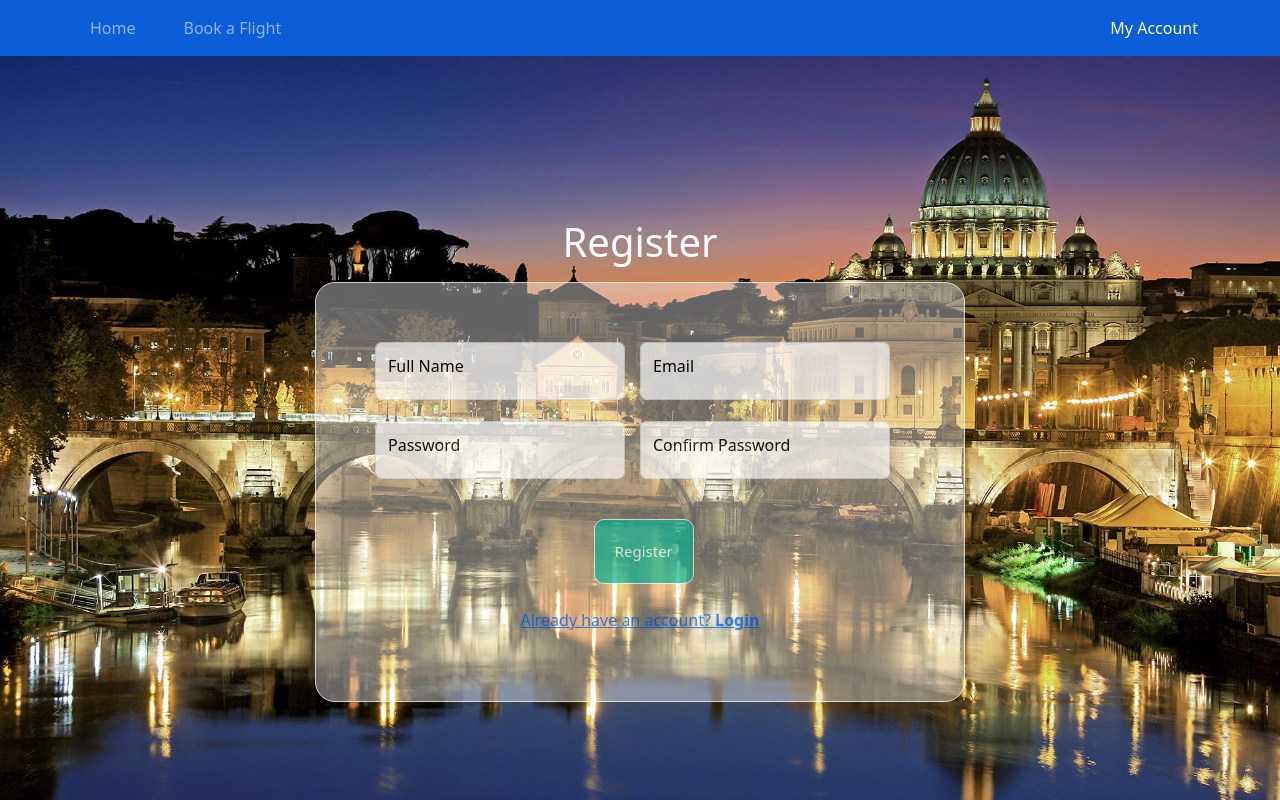
Test: RegisterPage - E2E Test › shows validation error if passwords do not match
This screenshot has width=1280, height=800.
In the field with placeholder "Full Name": (500, 371) [375,342,625,400], type "Test User"
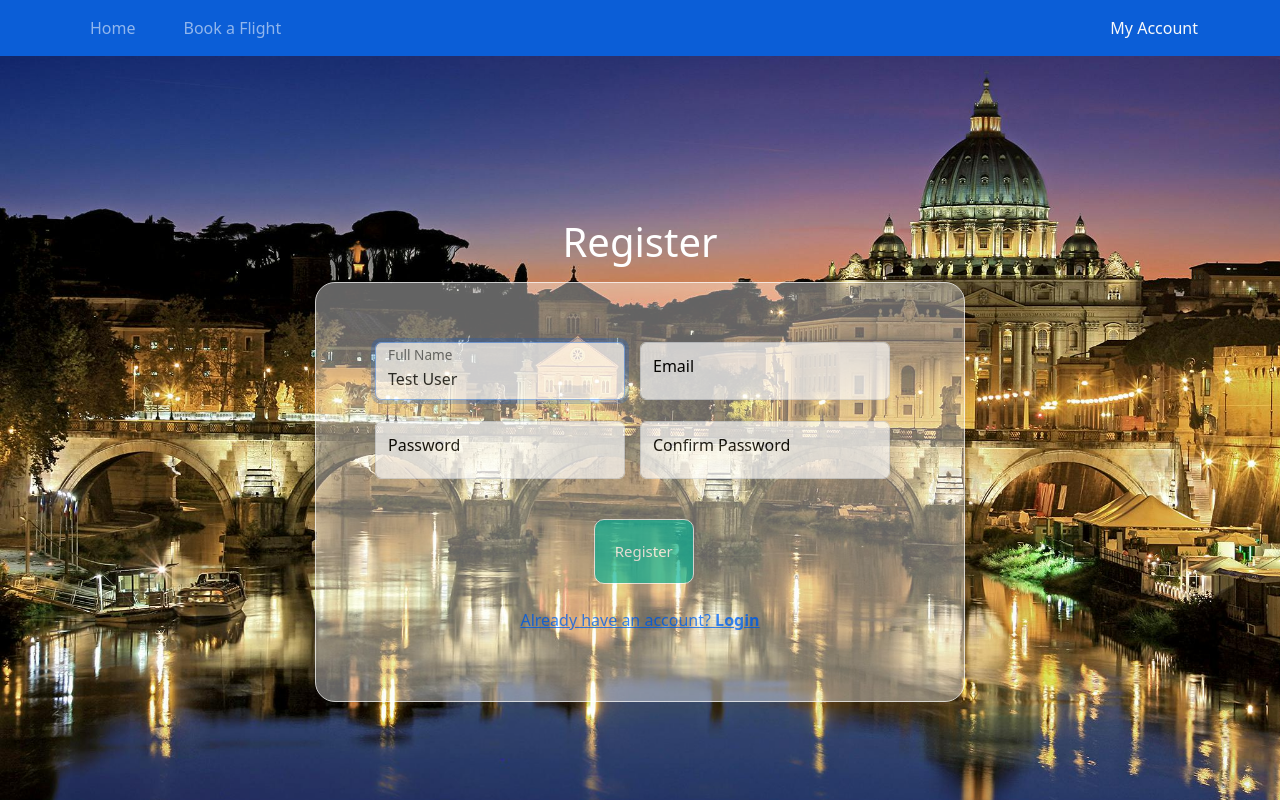
In the field with placeholder "Email": (765, 371) [640,342,890,400], type "testuser@example.com"
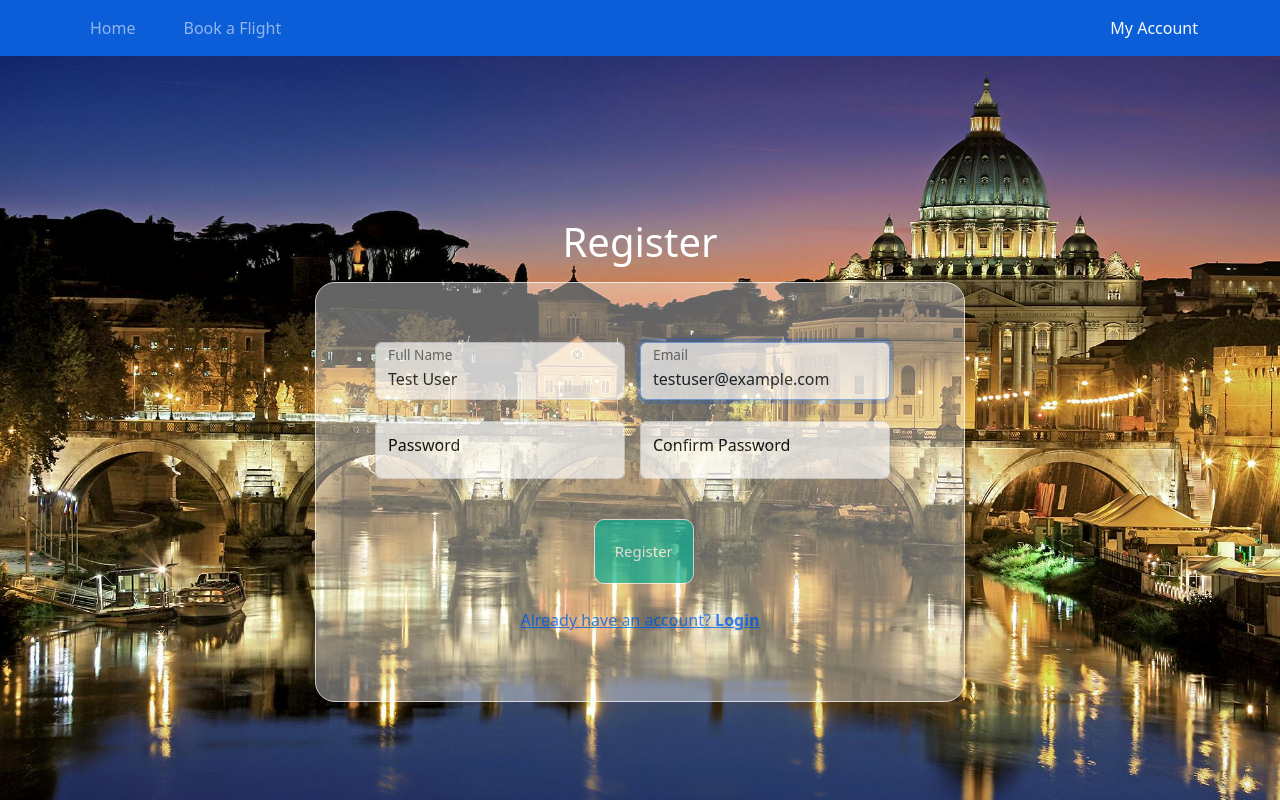
In the password field with placeholder "Password": (500, 450) [375,421,625,479], type "password1"
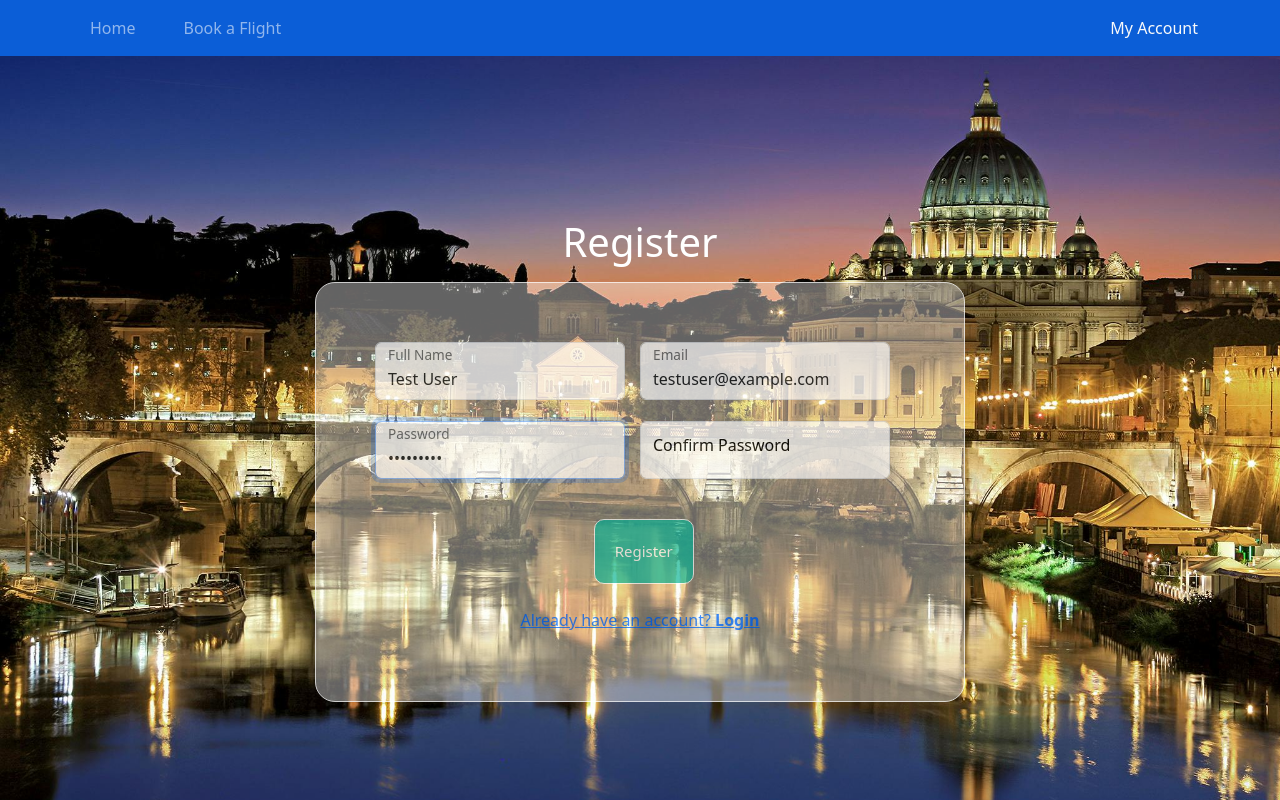
In the password field with placeholder "Confirm Password": (765, 450) [640,421,890,479], type "password2"
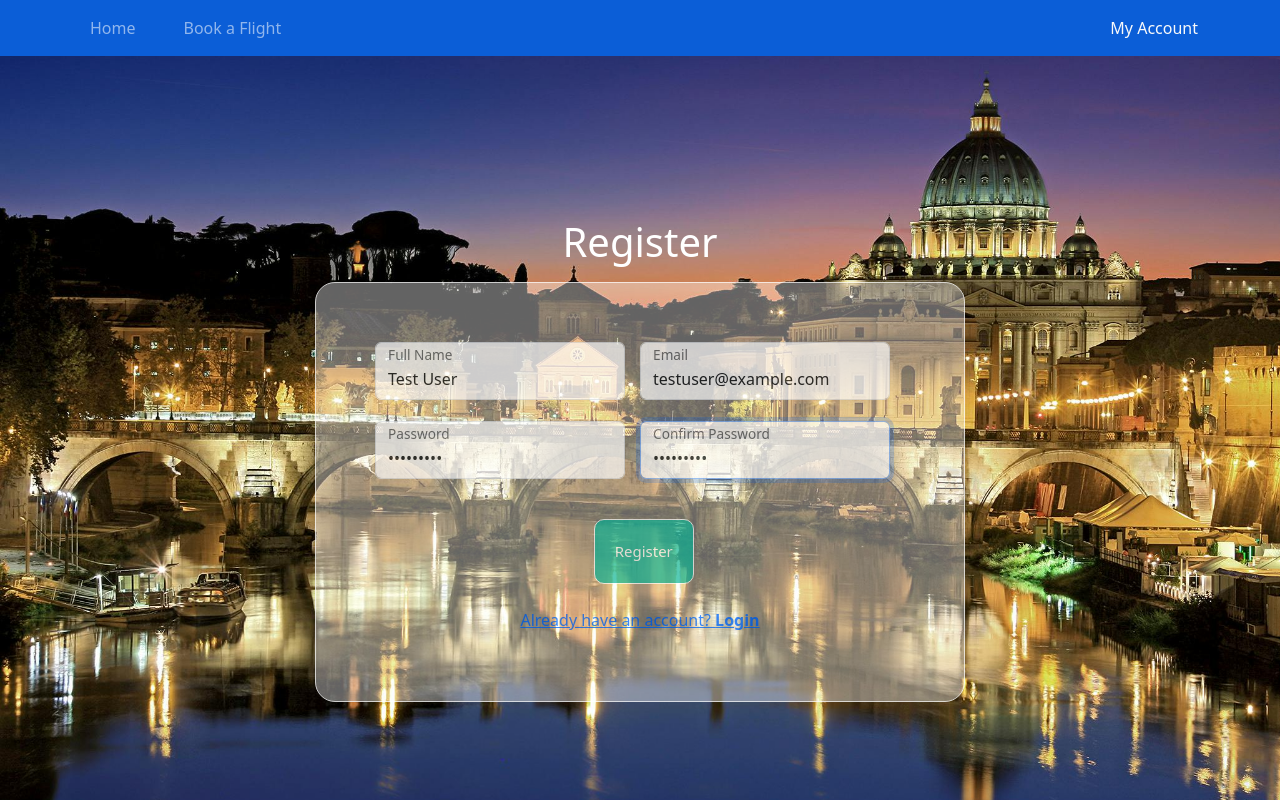
Click the button "Register": (644, 552) [594,519,694,584]
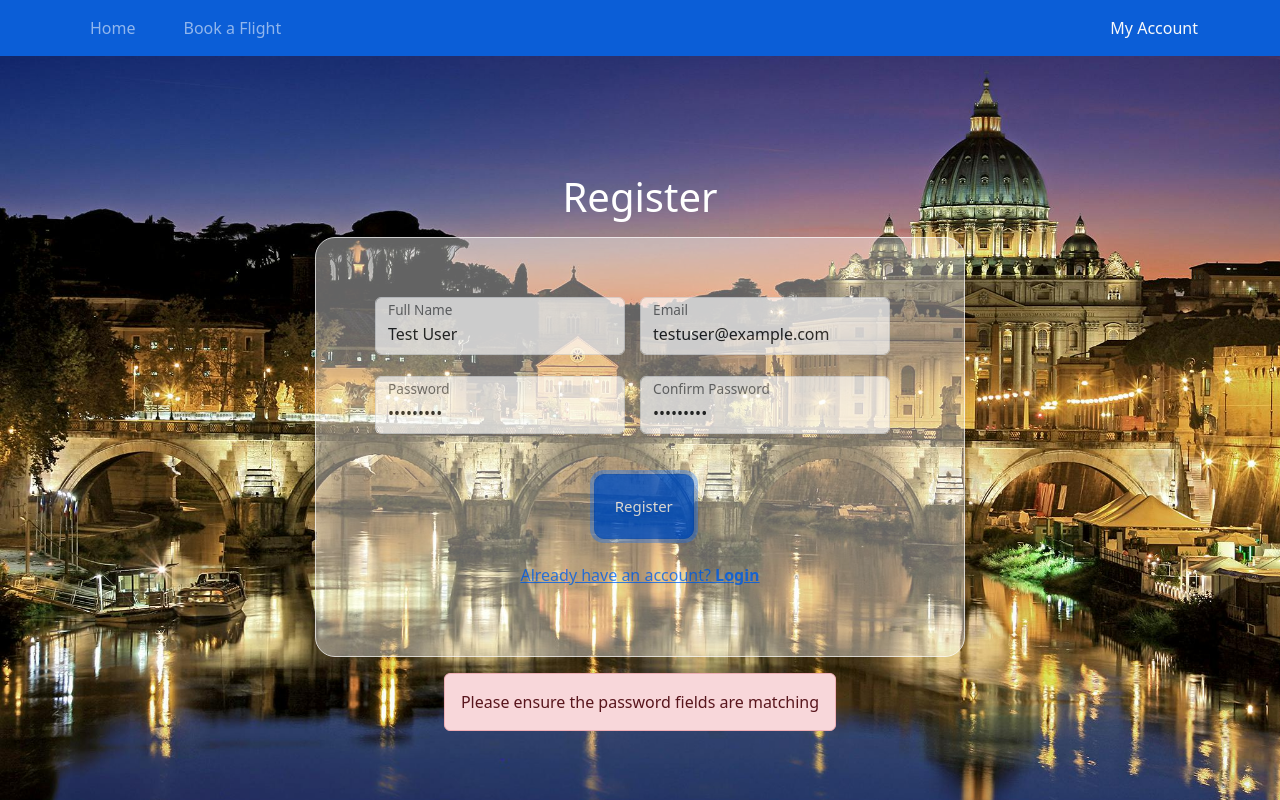
Expected: the text "Please ensure the password fields are matching" is shown, [444,673,836,731]
